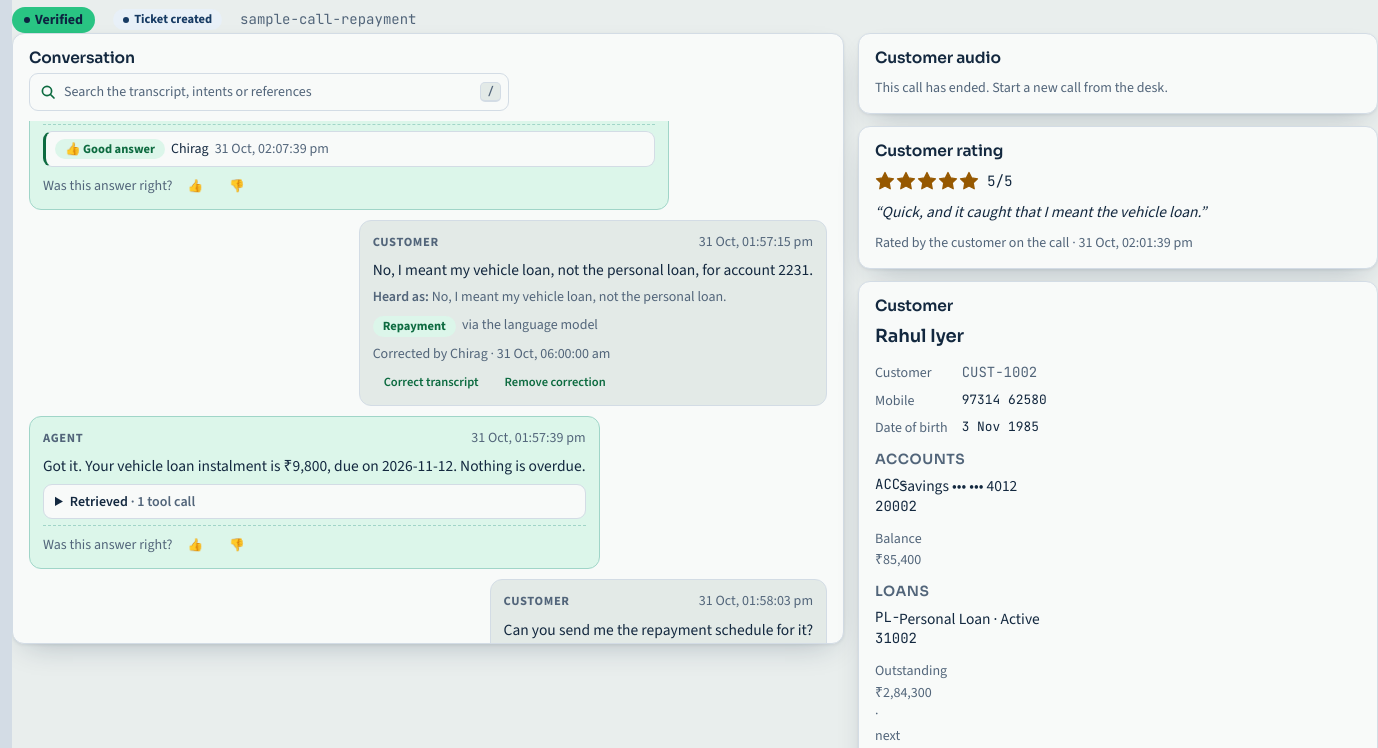
Test: caller transcript corrections (Level 2 §6) › does not tell the live agent when the record could not be saved
The width and height of the screenshot is (1378, 748).
(page scrolled)
Click the button "Correct transcript". click: {"x": 431, "y": 382}
box: x1=373 y1=369 x2=490 y2=395
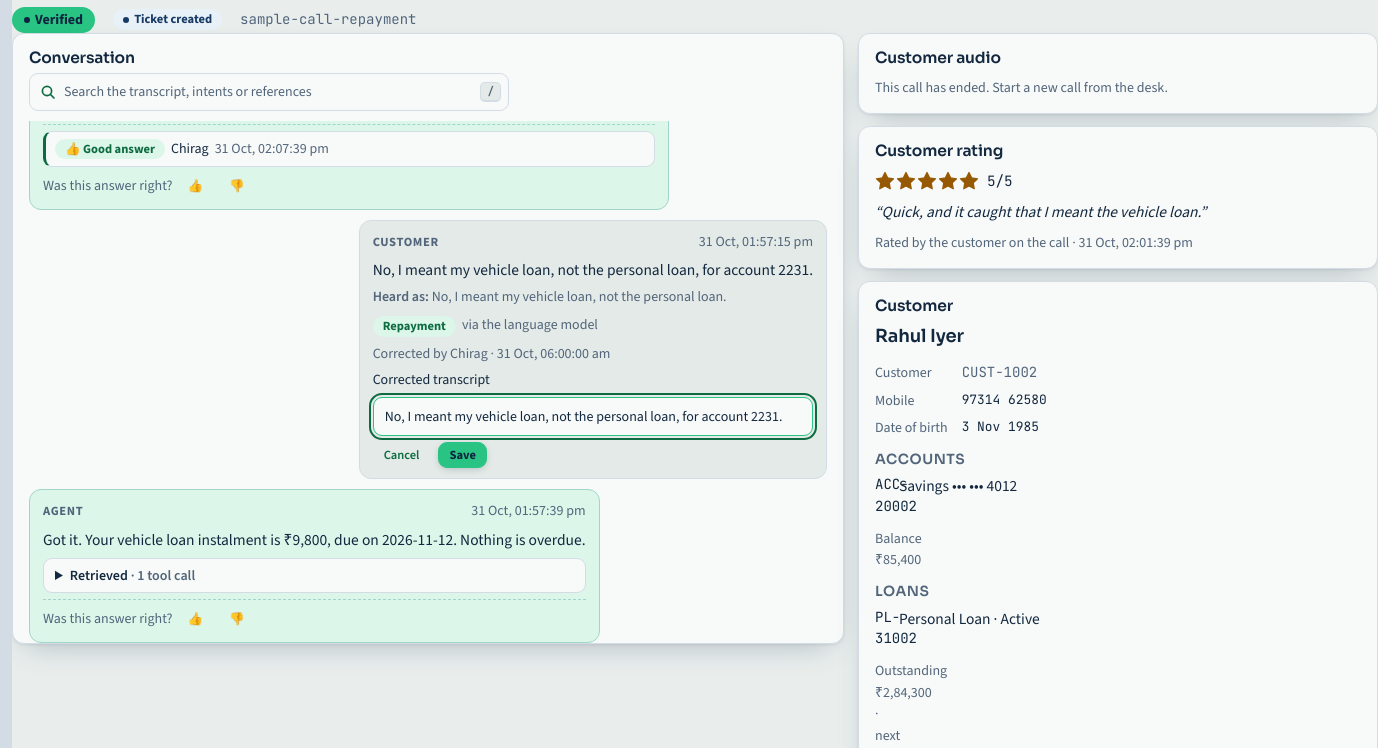
Click the button "Save". click: {"x": 463, "y": 455}
box: x1=438 y1=442 x2=487 y2=468
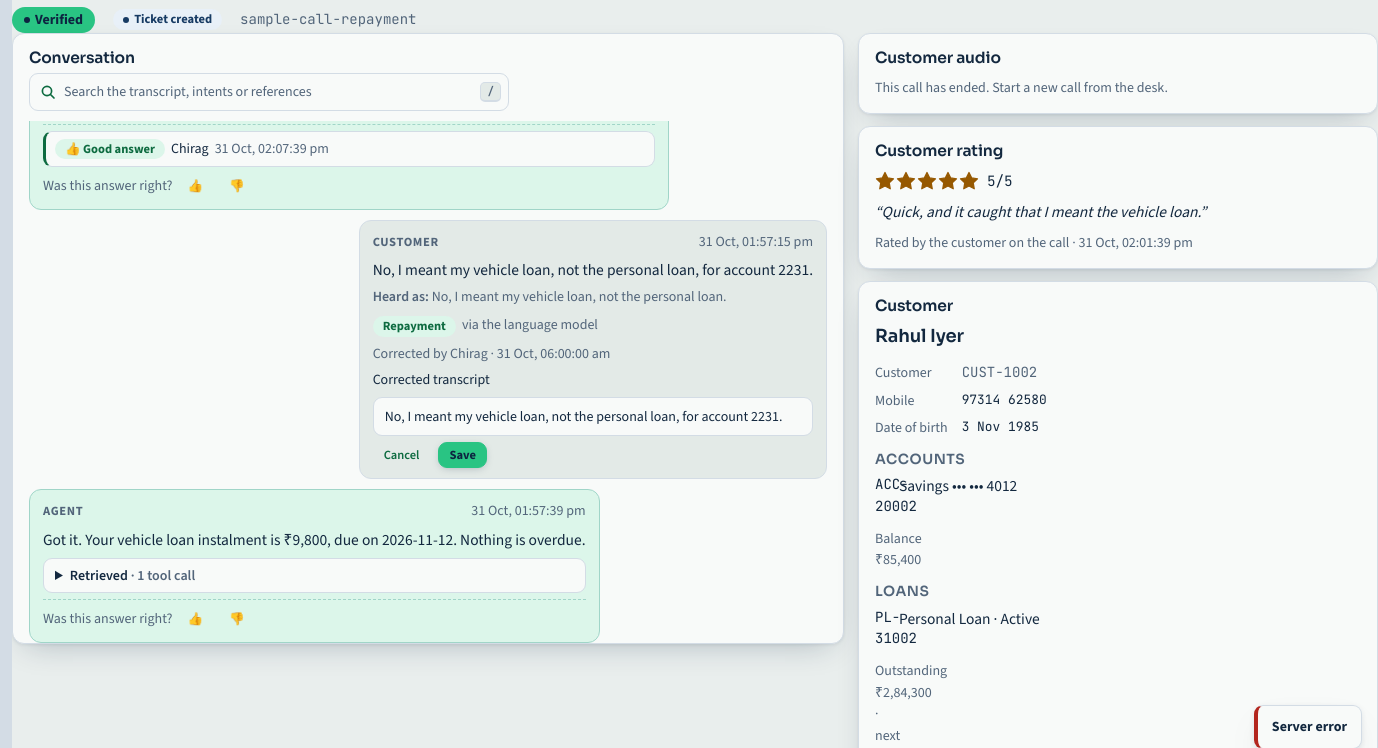
Check: the text "Server error" is shown, box x1=1272 y1=716 x2=1347 y2=738
